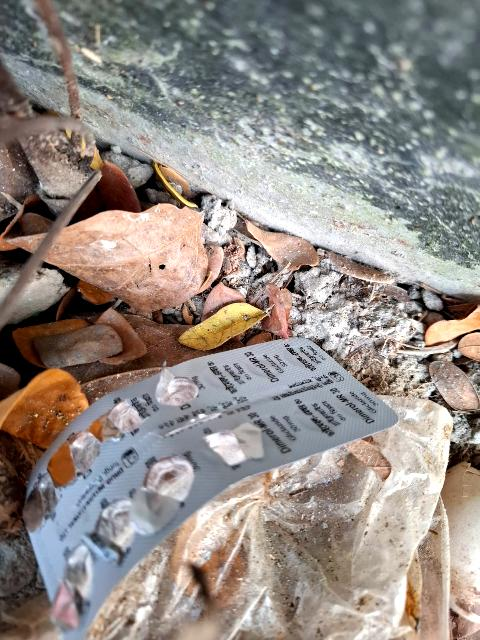medicine: (0, 275, 424, 632)
